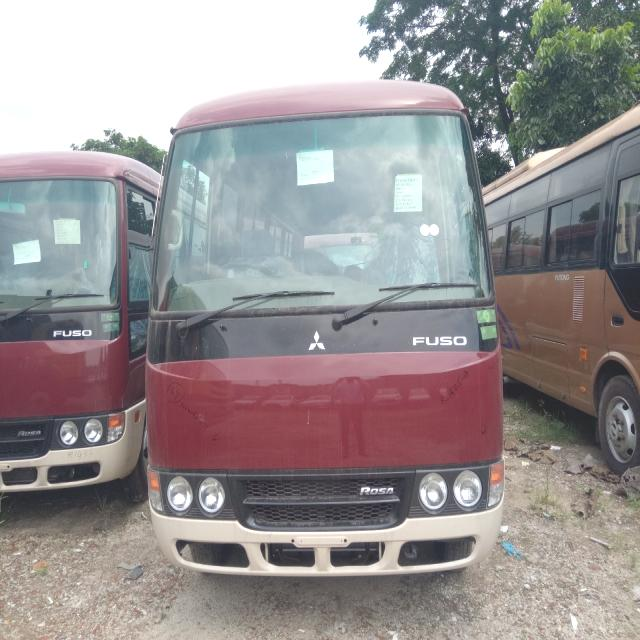bus: (147, 63, 511, 593), (1, 128, 148, 534), (476, 98, 640, 458)
